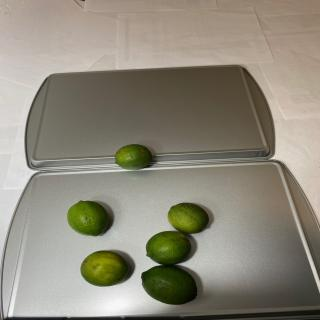Lemon: (140, 265, 198, 305), (80, 250, 129, 287), (146, 231, 192, 265), (67, 200, 109, 237), (167, 202, 209, 234), (115, 144, 152, 170)
